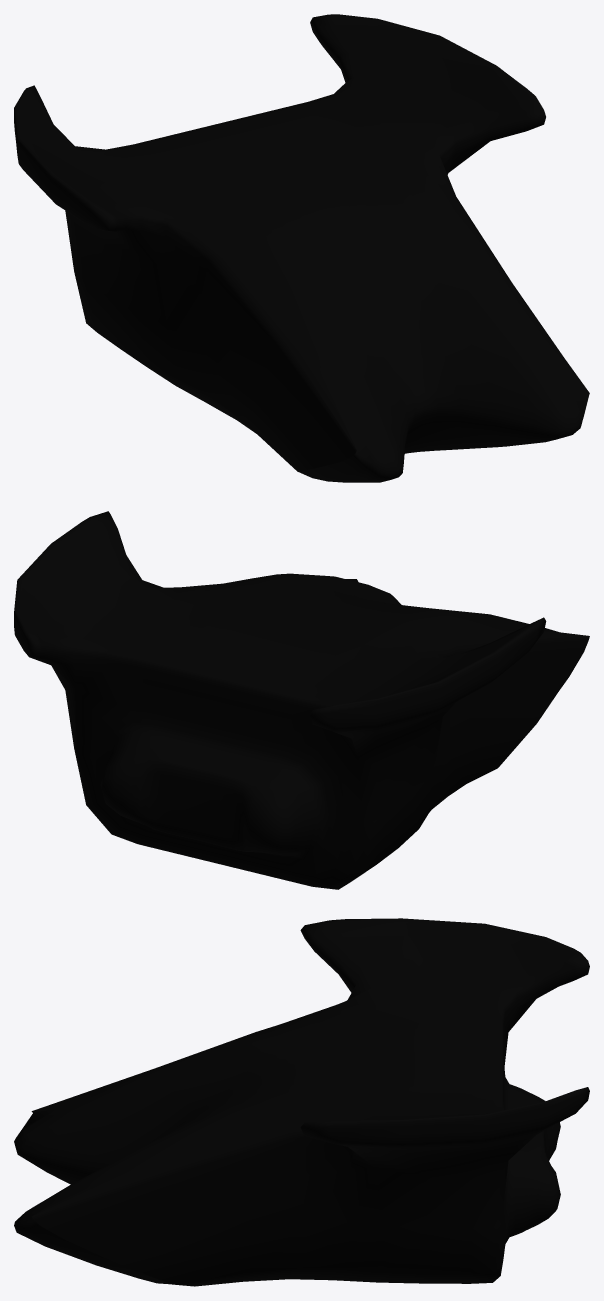
File: ship_2.glb
The picture shows the model from 3 angles, top to bottom: view 1: azimuth 30°, elevation 25°; view 2: azimuth 150°, elevation 25°; view 3: azimuth 270°, elevation 25°; orthographic projection. The views are drawn at different scales.
Visible parts, largest first — view 1: Cube; view 2: Cube; view 3: Cube.
Part boxes in pixels (x1=…): Cube: x1=14, y1=14, x2=589, y2=482; Cube: x1=14, y1=511, x2=589, y2=889; Cube: x1=14, y1=918, x2=589, y2=1286.
Size of the model in its own units: 0.7355 by 0.393 by 0.8818.
1 material, 1 textured.
